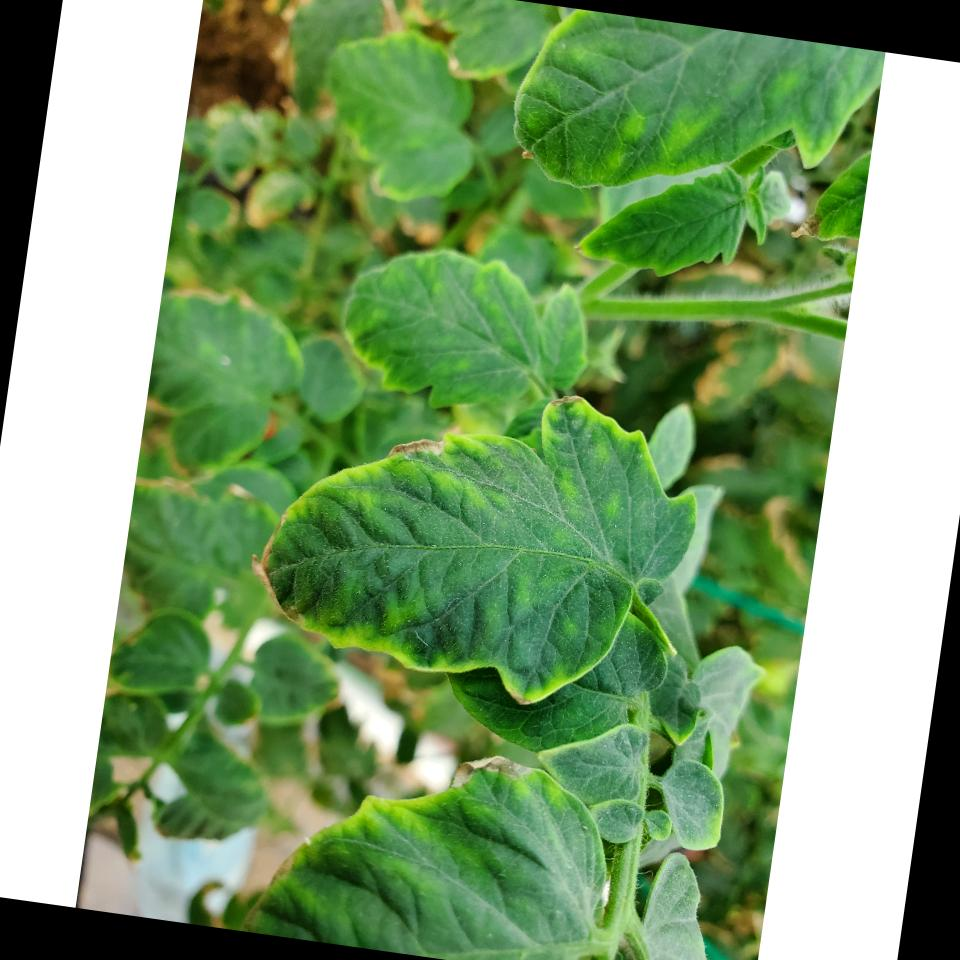tomato_bacterial_blight: (217, 348, 720, 729)
